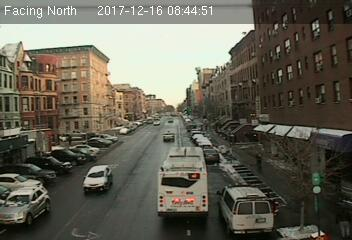bus: (156, 146, 208, 222)
car: (1, 184, 51, 226), (82, 165, 113, 192), (204, 148, 220, 164)
police: (215, 181, 278, 236)
